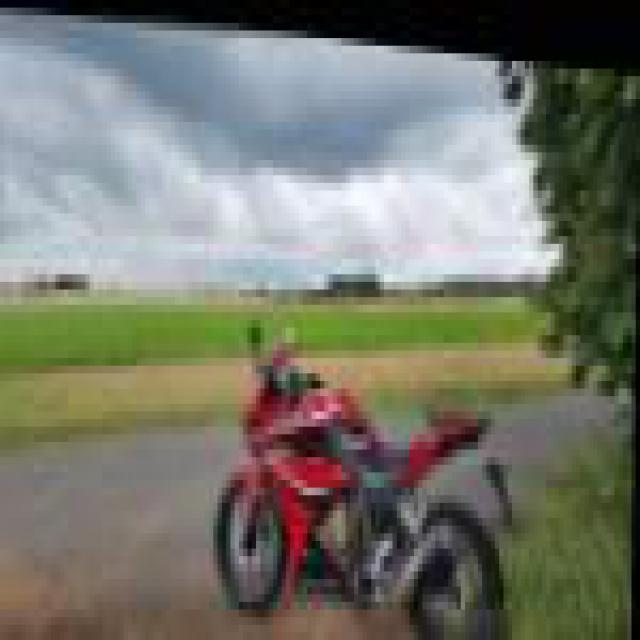CBR500R: (205, 305, 508, 632)
